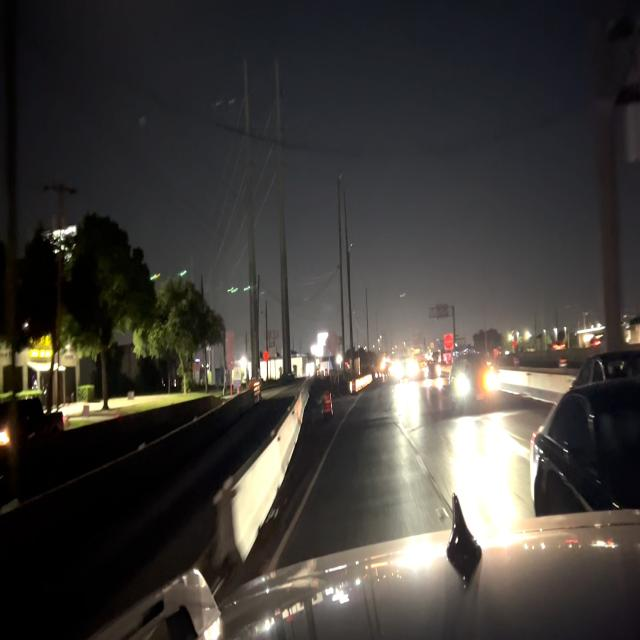back-of-sign: (426, 297, 454, 326)
